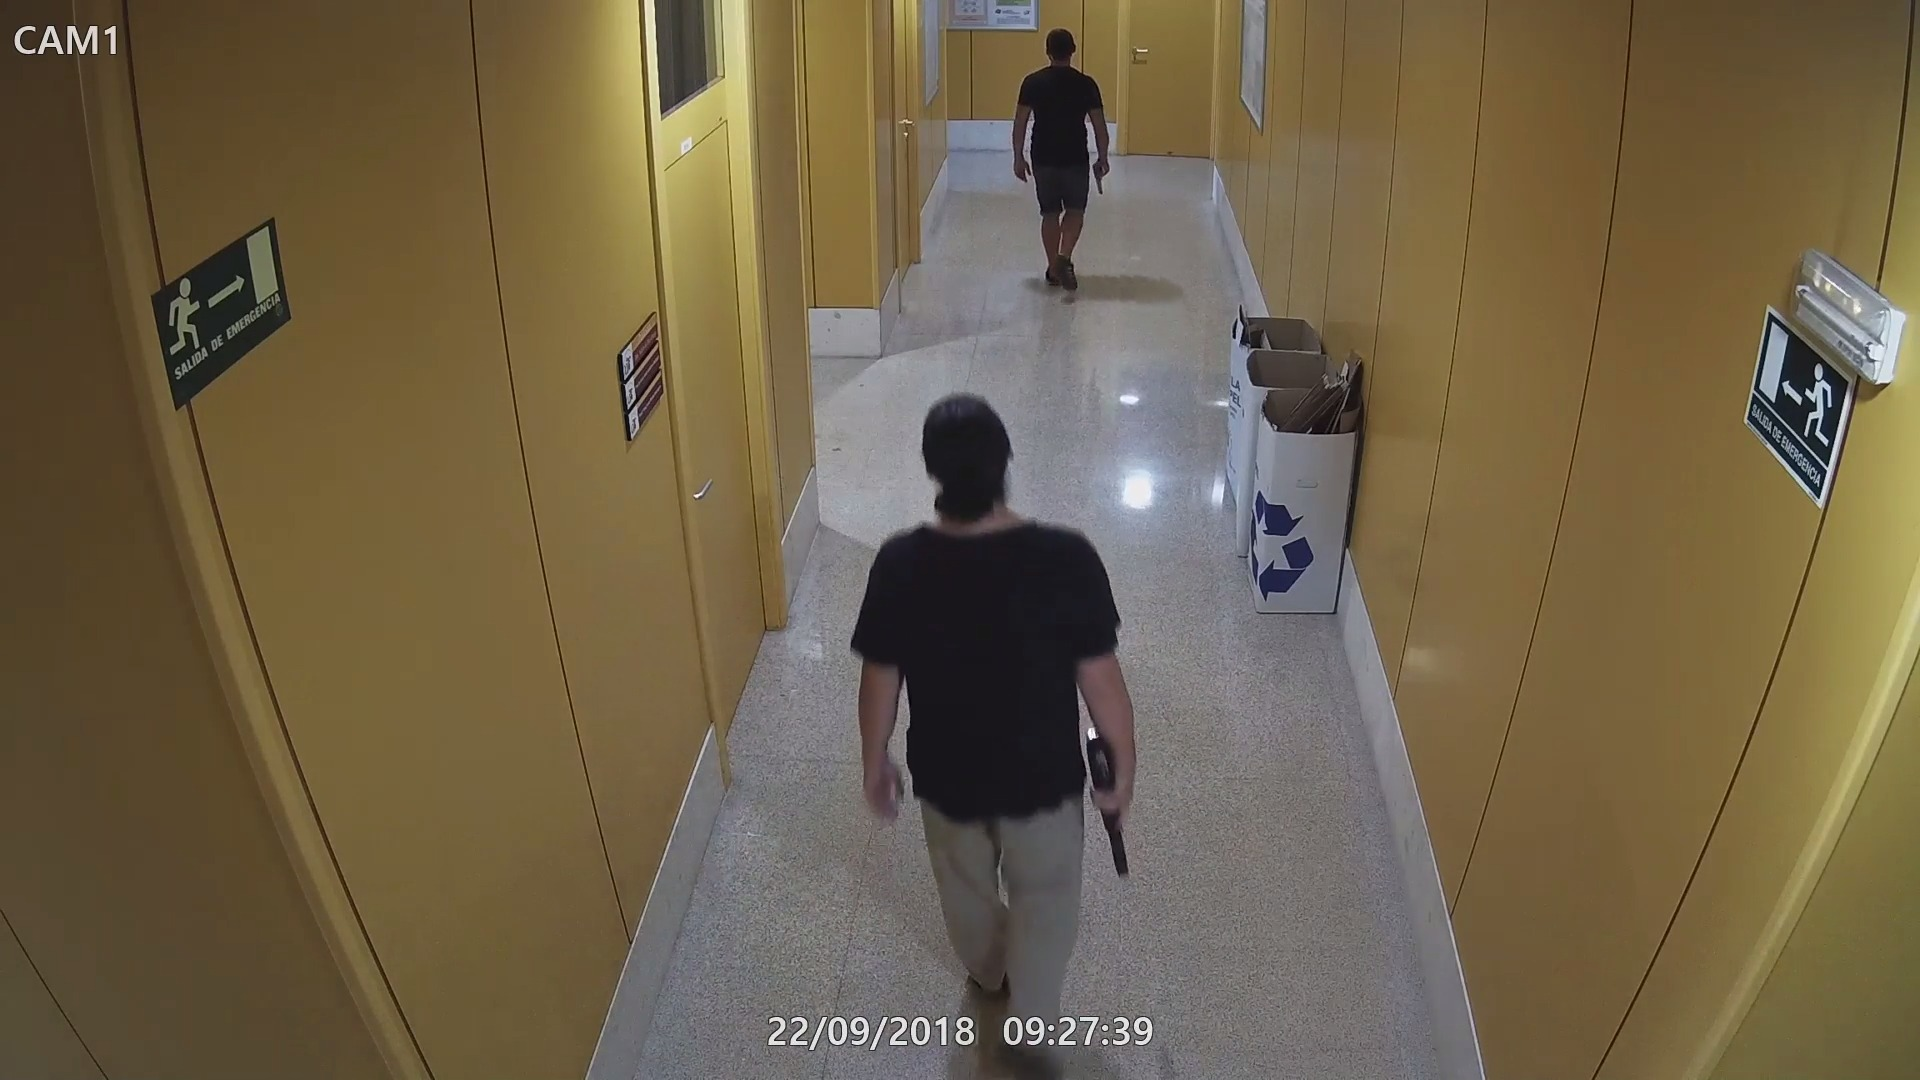Handgun: (1089, 154, 1116, 195)
Short_rifle: (1085, 723, 1135, 881)
